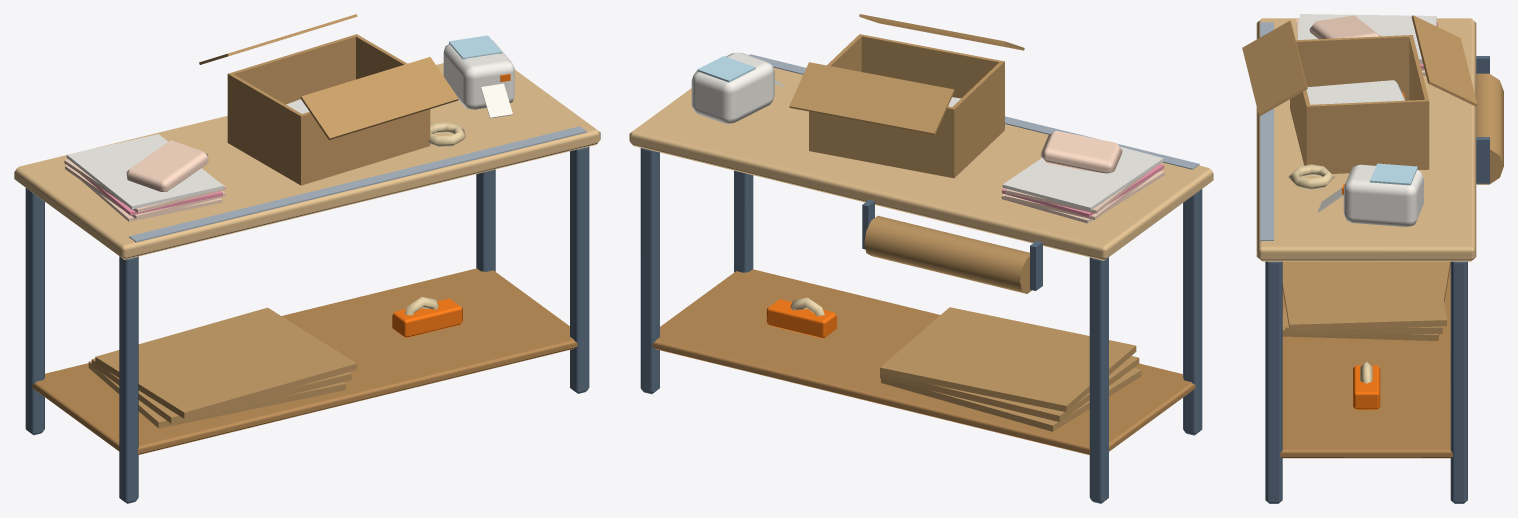
The model's file is station_processing_1.glb.
3 renders of one model, left to right at view 1: azimuth 30°, elevation 25°; view 2: azimuth 150°, elevation 25°; view 3: azimuth 270°, elevation 25°, orthographic.
Visible parts, largest first — view 1: station_processing_1; view 2: station_processing_1; view 3: station_processing_1.
Boxes of the visible parts, left/top/right/bottom form: station_processing_1: left=14, top=14, right=600, bottom=503; station_processing_1: left=629, top=14, right=1213, bottom=503; station_processing_1: left=1242, top=14, right=1503, bottom=503.
Bounding box in the file's own units: 1.6 × 1.13 × 0.7628.
